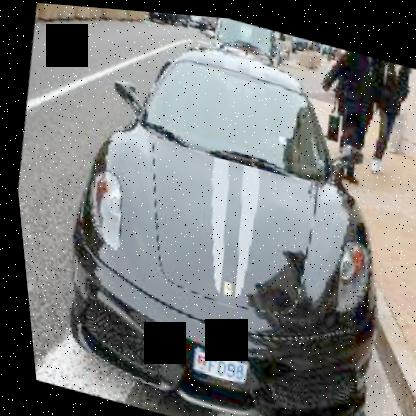not_emergency: (33, 2, 415, 415)
